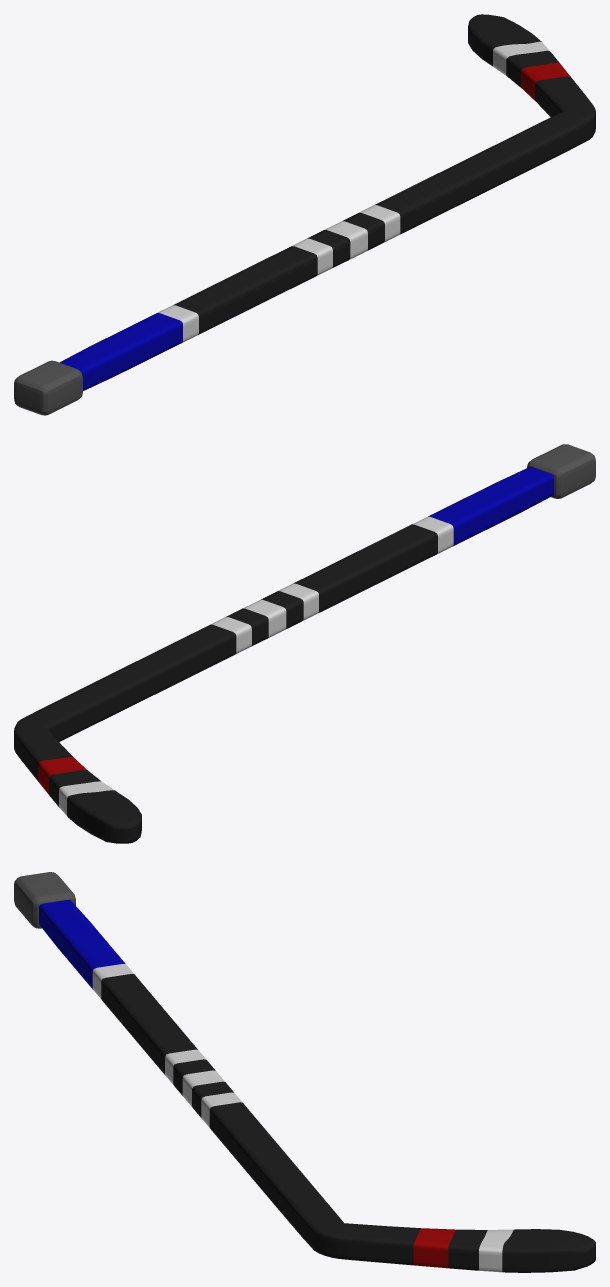
Rendered from HockeyStickGeo.fbx.
The picture shows the model from 3 angles, top to bottom: view 1: azimuth 30°, elevation 25°; view 2: azimuth 210°, elevation 25°; view 3: azimuth 270°, elevation 25°; orthographic projection. The views are drawn at different scales.
Parts seen in each view (by area): view 1: hockeystickgeo; view 2: hockeystickgeo; view 3: hockeystickgeo.
Boxes of the visible parts, left/top/right/bottom form: hockeystickgeo: left=14, top=14, right=595, bottom=415; hockeystickgeo: left=14, top=444, right=595, bottom=843; hockeystickgeo: left=14, top=872, right=595, bottom=1272.
Size of the model in its own units: 205 by 8.08 by 133.
